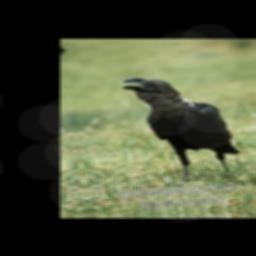Crow: (114, 69, 249, 189)
